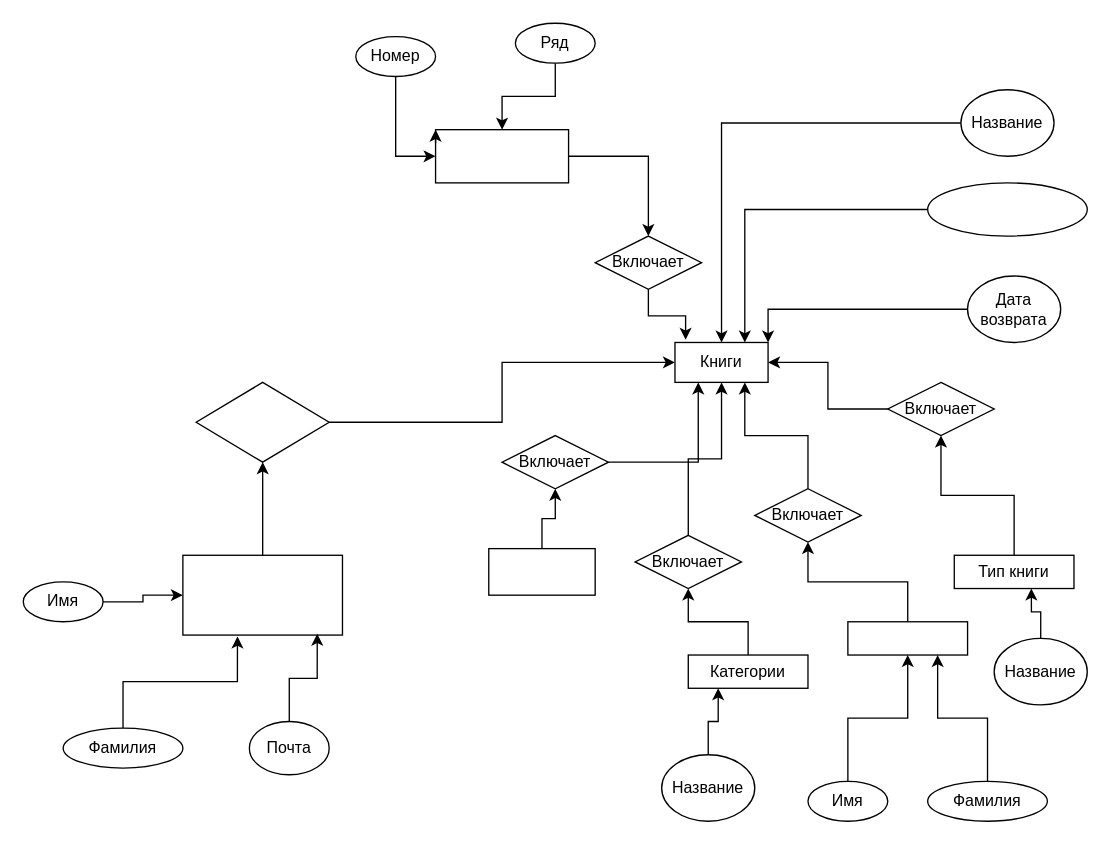
This 1111x845 diagram has some shape labels left out. The shapes that lost their labels are listed below. From the top down, each one's box as (x1, y1, x2, y2) in pixels, then its label:
(434, 128, 569, 183): Локация
(926, 182, 1087, 236): Доступность книги
(195, 381, 329, 462): Запрашивает
(487, 547, 595, 595): Издатель
(182, 554, 342, 635): Пользователи
(847, 620, 968, 655): Автор
